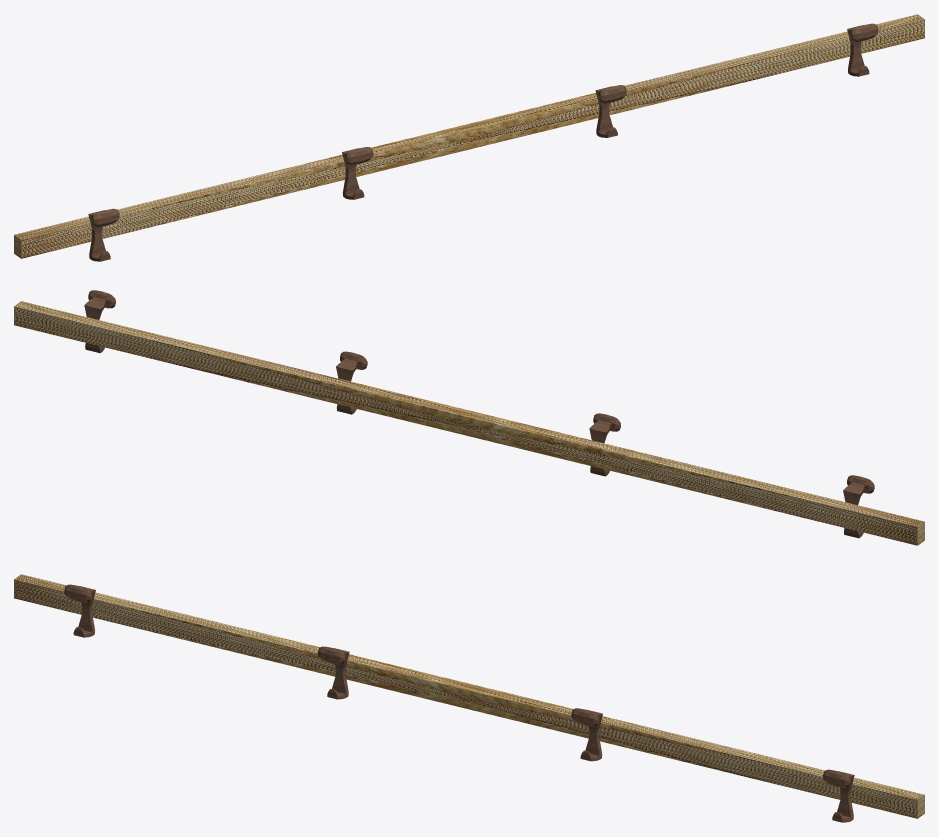
The model's file is Appendiabiti.fbx.
The picture shows the model from 3 angles, top to bottom: view 1: azimuth 30°, elevation 25°; view 2: azimuth 150°, elevation 25°; view 3: azimuth 330°, elevation 25°; orthographic projection.
Parts seen in each view (by area): view 1: Asta, Appendino 1, Appendino 2, Appendino 4, Appendino 3; view 2: Asta, Appendino 4, Appendino 2, Appendino 3, Appendino 1; view 3: Asta, Appendino 4, Appendino 2, Appendino 3, Appendino 1.
Part boxes in pixels (box(x1,y1,x2,y2)): Asta: box(14, 14, 924, 258); Appendino 1: box(88, 208, 119, 261); Appendino 2: box(342, 147, 373, 199); Appendino 4: box(847, 23, 878, 76); Appendino 3: box(595, 85, 626, 137); Asta: box(14, 301, 924, 545); Appendino 4: box(84, 290, 115, 353); Appendino 2: box(589, 413, 620, 476); Appendino 3: box(336, 351, 367, 414); Appendino 1: box(843, 475, 874, 538); Asta: box(14, 574, 924, 818); Appendino 4: box(823, 769, 854, 822); Appendino 2: box(318, 646, 349, 699); Appendino 3: box(571, 708, 602, 761); Appendino 1: box(64, 584, 95, 637).
Bounding box in the file's own units: 717 × 40.55 × 26.91.
